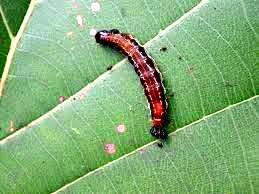Caterpillar: (97, 24, 177, 144)
